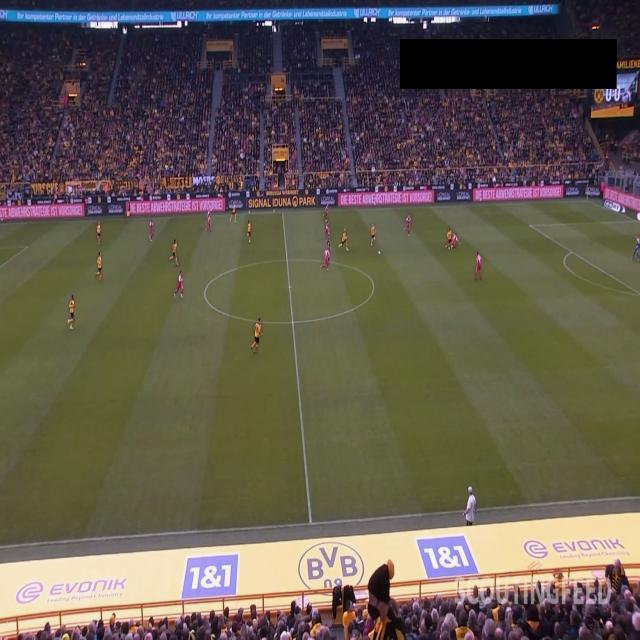ball: (378, 250, 381, 255)
f_player: (249, 316, 263, 354), (66, 294, 76, 330), (168, 238, 180, 266), (474, 251, 485, 281), (174, 270, 184, 300), (630, 235, 640, 261), (95, 250, 103, 282), (320, 246, 330, 271), (338, 227, 348, 251), (95, 220, 103, 246), (230, 200, 238, 224), (444, 227, 452, 250), (245, 218, 252, 244), (404, 215, 412, 237), (369, 223, 376, 247), (322, 202, 330, 222), (148, 218, 154, 244), (205, 212, 212, 234), (451, 230, 458, 250), (325, 220, 330, 242)
umpire: (326, 236, 331, 256)
